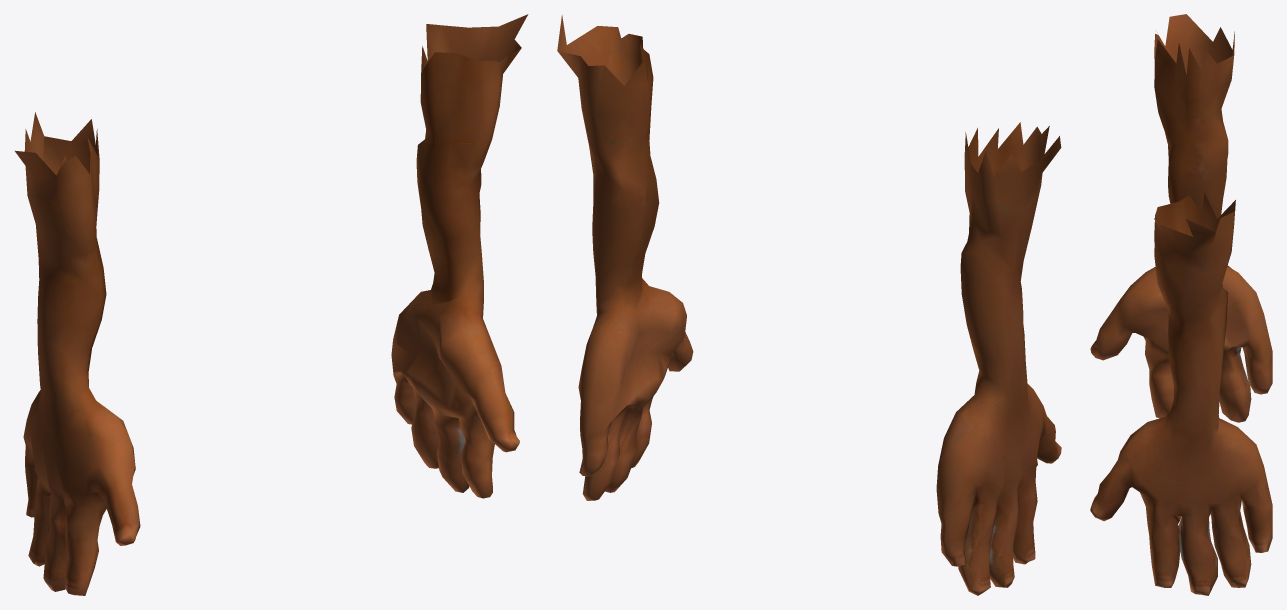
The model's file is ananse_extra_arms.glb.
3 views of the same model, side by side, from view 1: azimuth 30°, elevation 25°; view 2: azimuth 150°, elevation 25°; view 3: azimuth 270°, elevation 25° (orthographic). The views are drawn at different scales.
Parts seen in each view (by area): view 1: ananse_extra_arms; view 2: ananse_extra_arms; view 3: ananse_extra_arms.
Boxes of the visible parts, x1=… form: ananse_extra_arms: x1=15, y1=14, x2=528, y2=595; ananse_extra_arms: x1=557, y1=15, x2=1061, y2=595; ananse_extra_arms: x1=1090, y1=14, x2=1272, y2=595.
Size of the model in its own units: 0.4411 by 0.3848 by 0.1582.
1 material, 1 textured.
